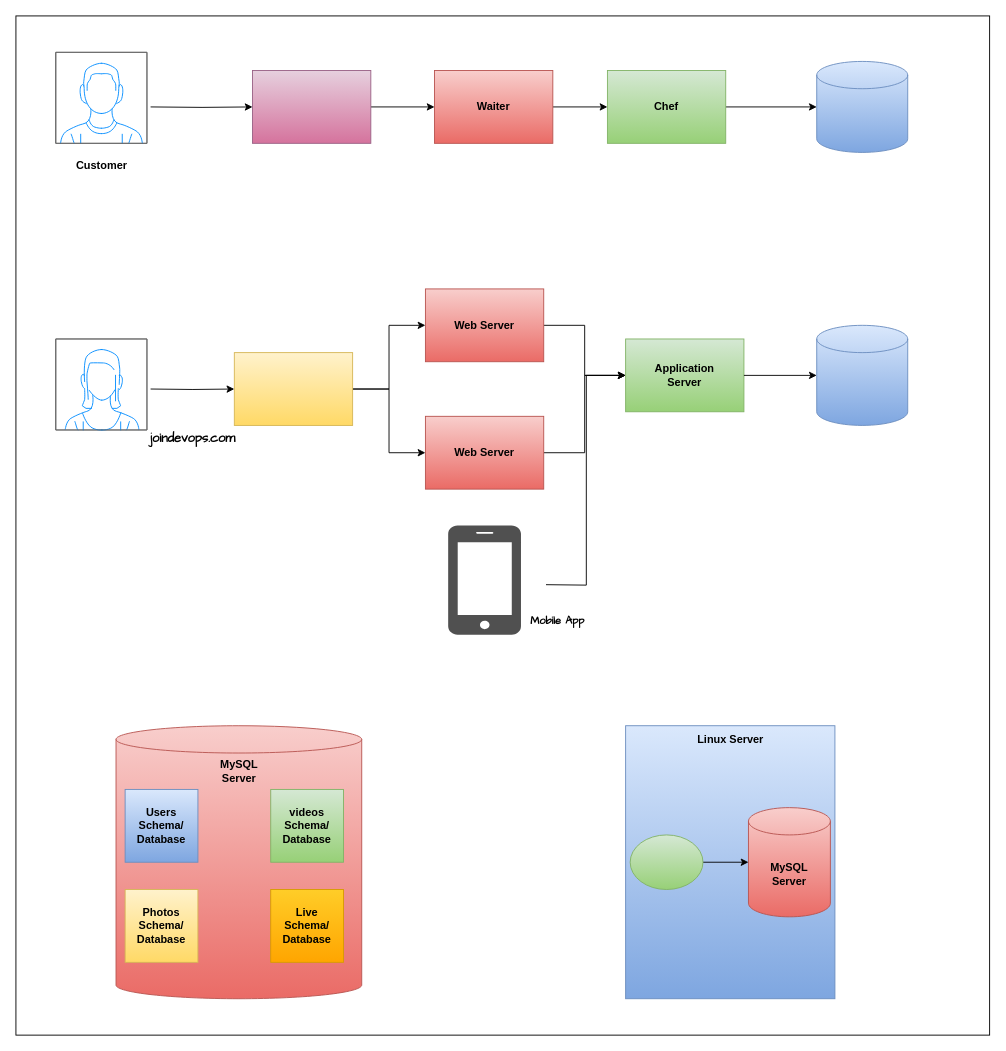
Some shapes in this 1006 by 1051 pixel diagram are drawn without their labels. Each missing label, with the box of its shape:
Cpatain: (252, 70, 371, 143)
Database: (816, 324, 908, 425)
Load Balancer: (233, 352, 353, 425)
MySQL Client: (629, 834, 703, 890)
Raw Items: (816, 61, 908, 152)
